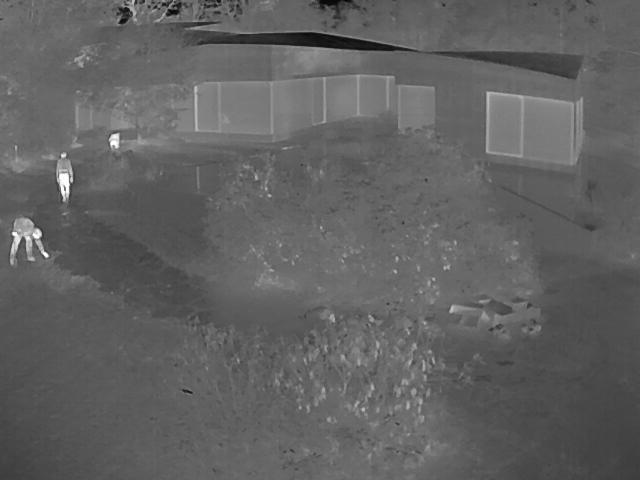person: (9, 216, 51, 266), (59, 151, 75, 204)
